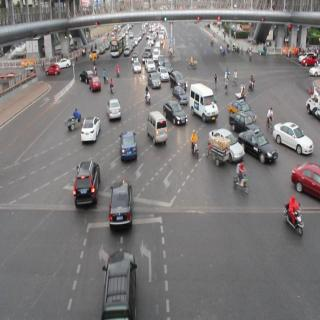Car: (101, 251, 138, 320), (275, 118, 313, 159), (240, 126, 277, 167), (72, 160, 100, 210), (107, 178, 133, 230), (189, 80, 219, 124), (289, 162, 320, 198), (212, 130, 244, 156), (147, 112, 167, 147), (165, 98, 187, 127), (80, 116, 101, 146), (120, 128, 138, 158), (106, 97, 122, 123), (148, 69, 161, 89), (89, 74, 101, 94), (302, 54, 317, 68), (46, 64, 61, 78), (132, 58, 142, 76), (145, 56, 154, 71)
